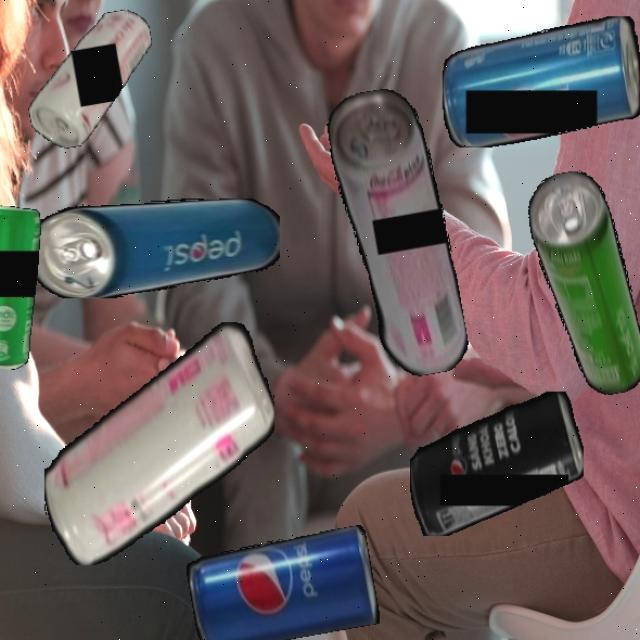debris: (44, 321, 274, 565), (322, 82, 472, 384), (523, 165, 640, 402), (441, 15, 640, 148), (409, 390, 584, 536), (29, 198, 280, 298), (184, 525, 381, 640), (15, 6, 167, 153), (0, 204, 41, 370)
